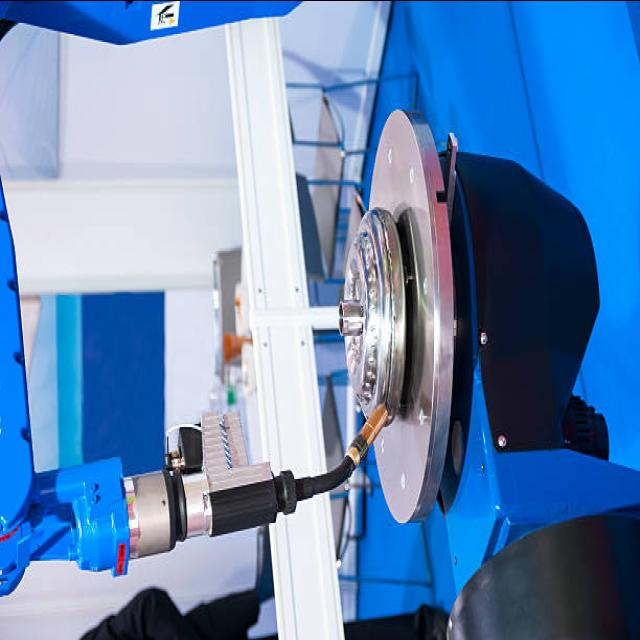Robotic-arm: (0, 0, 355, 620)
